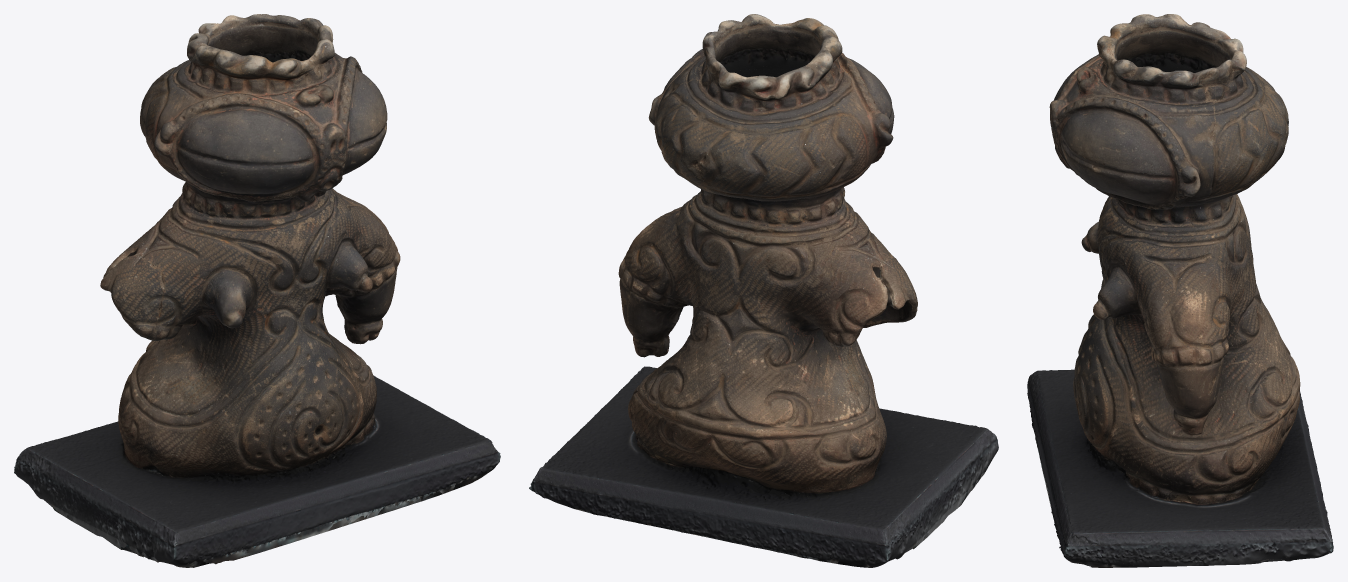
File: preview.glb
3 renders of one model, left to right at view 1: azimuth 30°, elevation 25°; view 2: azimuth 150°, elevation 25°; view 3: azimuth 270°, elevation 25°, orthographic. The views are drawn at different scales.
Visible parts, largest first — view 1: Object_7, Object_2, Object_5, Object_3, Object_8, Object_6; view 2: Object_3, Object_5, Object_7, Object_2, Object_8, Object_4, Object_6; view 3: Object_5, Object_3, Object_2, Object_7, Object_6, Object_8, Object_4.
Part boxes in pixels (box(x1,y1,x2,y2)): Object_7: box(14, 50, 500, 567); Object_2: box(18, 20, 497, 564); Object_5: box(33, 14, 490, 557); Object_3: box(14, 15, 496, 567); Object_8: box(100, 232, 493, 544); Object_6: box(140, 52, 400, 331); Object_3: box(541, 15, 998, 562); Object_5: box(542, 31, 988, 553); Object_7: box(529, 49, 951, 567); Object_2: box(534, 14, 995, 567); Object_8: box(636, 283, 996, 547); Object_4: box(655, 126, 877, 201); Object_6: box(621, 59, 889, 347); Object_5: box(1033, 14, 1327, 565); Object_3: box(1027, 58, 1330, 567); Object_2: box(1027, 14, 1331, 567); Object_7: box(1027, 66, 1333, 566); Object_6: box(1093, 63, 1288, 417); Object_8: box(1031, 222, 1309, 539); Object_4: box(1192, 119, 1288, 205).
Size of the model in its own units: 0.1709 by 0.2022 by 0.1245.
4 materials, 4 textured.
